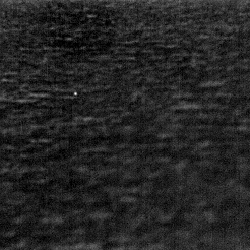dim target: (72, 90, 78, 97)
